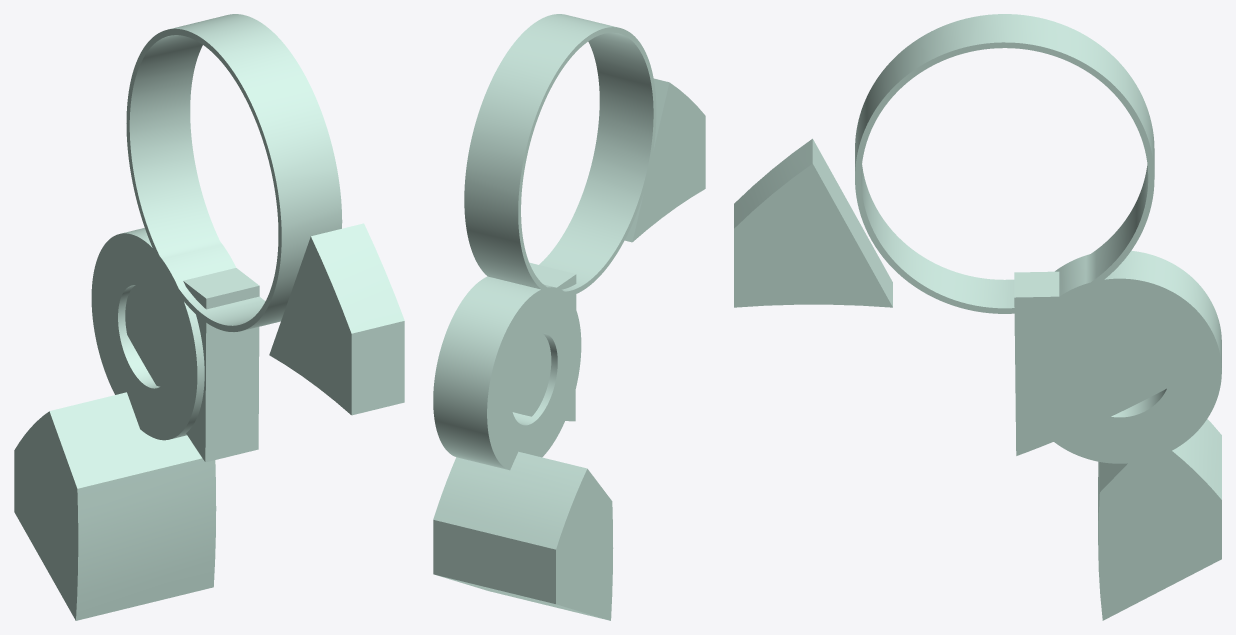
3 renders of one model, left to right at view 1: azimuth 30°, elevation 25°; view 2: azimuth 150°, elevation 25°; view 3: azimuth 270°, elevation 25°, orthographic. The views are drawn at different scales.
Parts seen in each view (by area): view 1: Renderer Node; view 2: Renderer Node; view 3: Renderer Node.
Boxes of the visible parts, x1,y1,x2,y2 form: Renderer Node: (14, 14, 404, 620); Renderer Node: (433, 14, 705, 620); Renderer Node: (734, 14, 1221, 620).
Bounding box in the file's own units: 0.4453 × 1.85 × 1.41.
